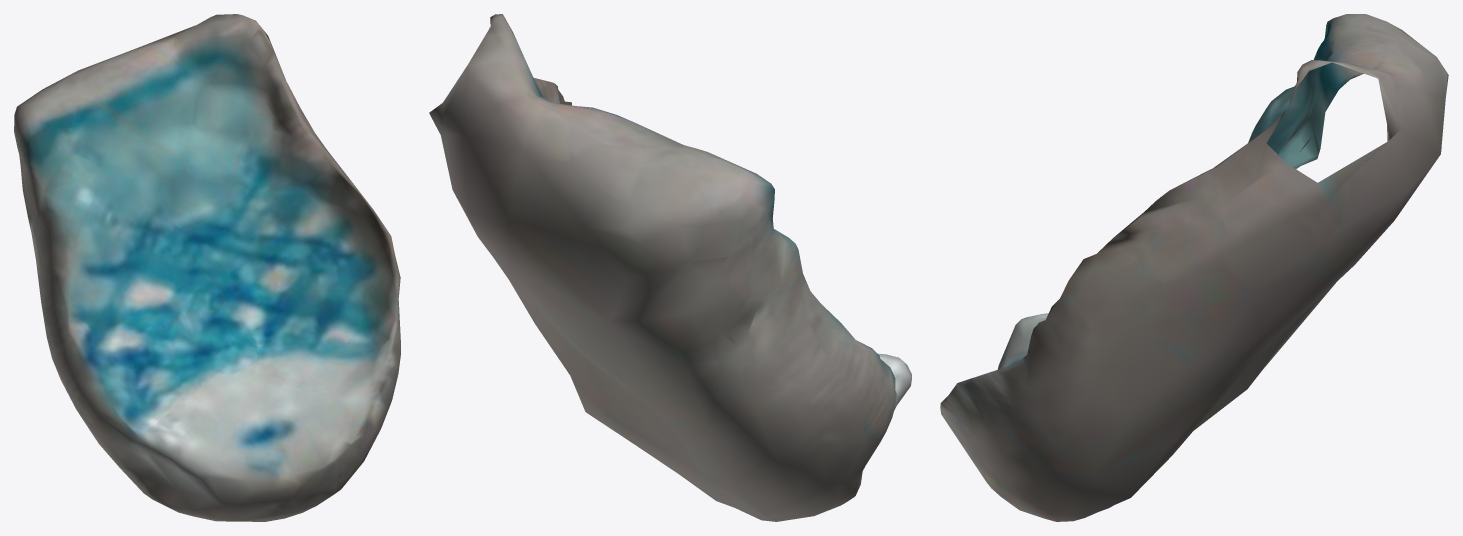
File: hall.glb
3 views of the same model, side by side, from view 1: azimuth 30°, elevation 25°; view 2: azimuth 150°, elevation 25°; view 3: azimuth 270°, elevation 25° (orthographic). The views are drawn at different scales.
Bounding box in the file's own units: 0.1104 × 0.1516 × 0.1393.
Materials: 1 (1 with a texture image).
